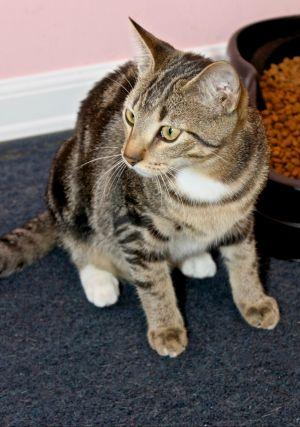bengal: (105, 13, 257, 191)
